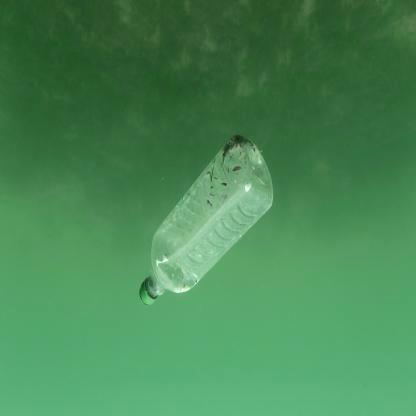Plastic: (137, 135, 277, 313)
